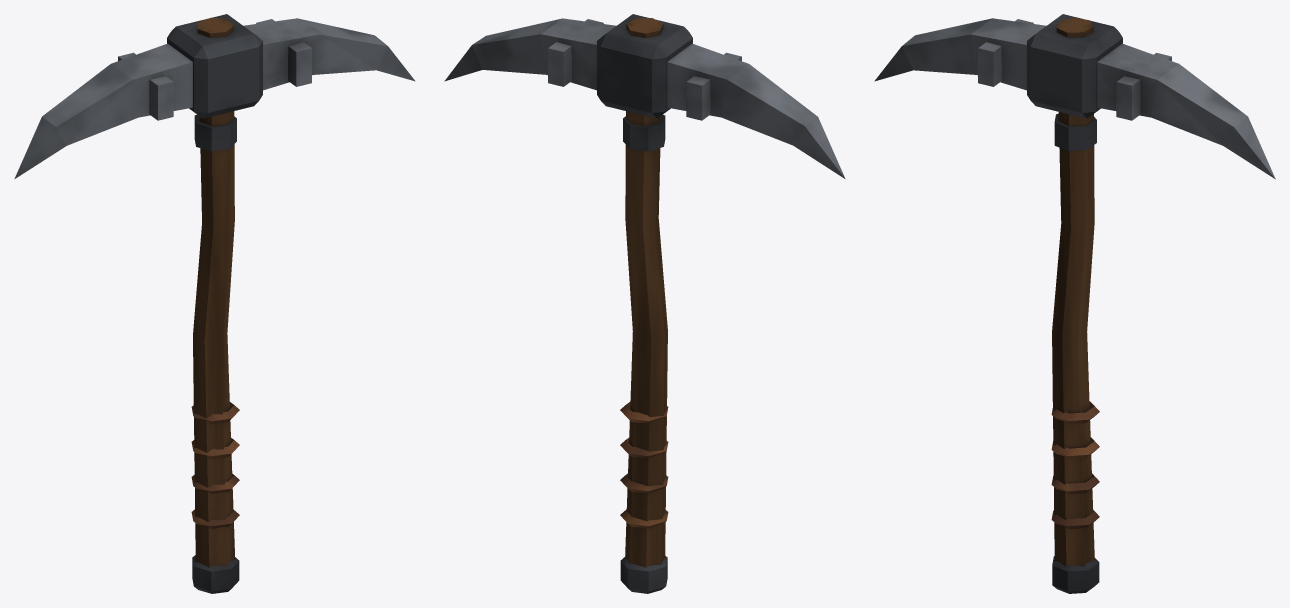
Rendered from pico_hierro.fbx.
The picture shows the model from 3 angles, left to right: view 1: azimuth 30°, elevation 25°; view 2: azimuth 150°, elevation 25°; view 3: azimuth 330°, elevation 25°; orthographic projection.
Parts seen in each view (by area): view 1: pico_hierro; view 2: pico_hierro; view 3: pico_hierro.
Boxes of the visible parts, x1,y1,x2,y2 form: pico_hierro: [14, 14, 415, 593]; pico_hierro: [444, 14, 845, 593]; pico_hierro: [874, 14, 1275, 593].
Size of the model in its own units: 3.6 by 4.8 by 0.62.
1 material, 1 textured.
